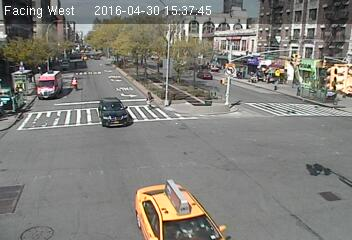neg: (156, 47, 171, 67), (36, 39, 51, 58), (202, 73, 215, 90), (134, 49, 147, 66), (2, 69, 15, 86), (81, 19, 93, 36), (12, 24, 24, 41), (40, 17, 50, 30), (109, 19, 118, 32), (130, 22, 139, 35), (164, 39, 170, 49)
pos: (143, 90, 157, 108), (292, 83, 303, 98), (270, 77, 281, 92), (68, 76, 79, 90)
